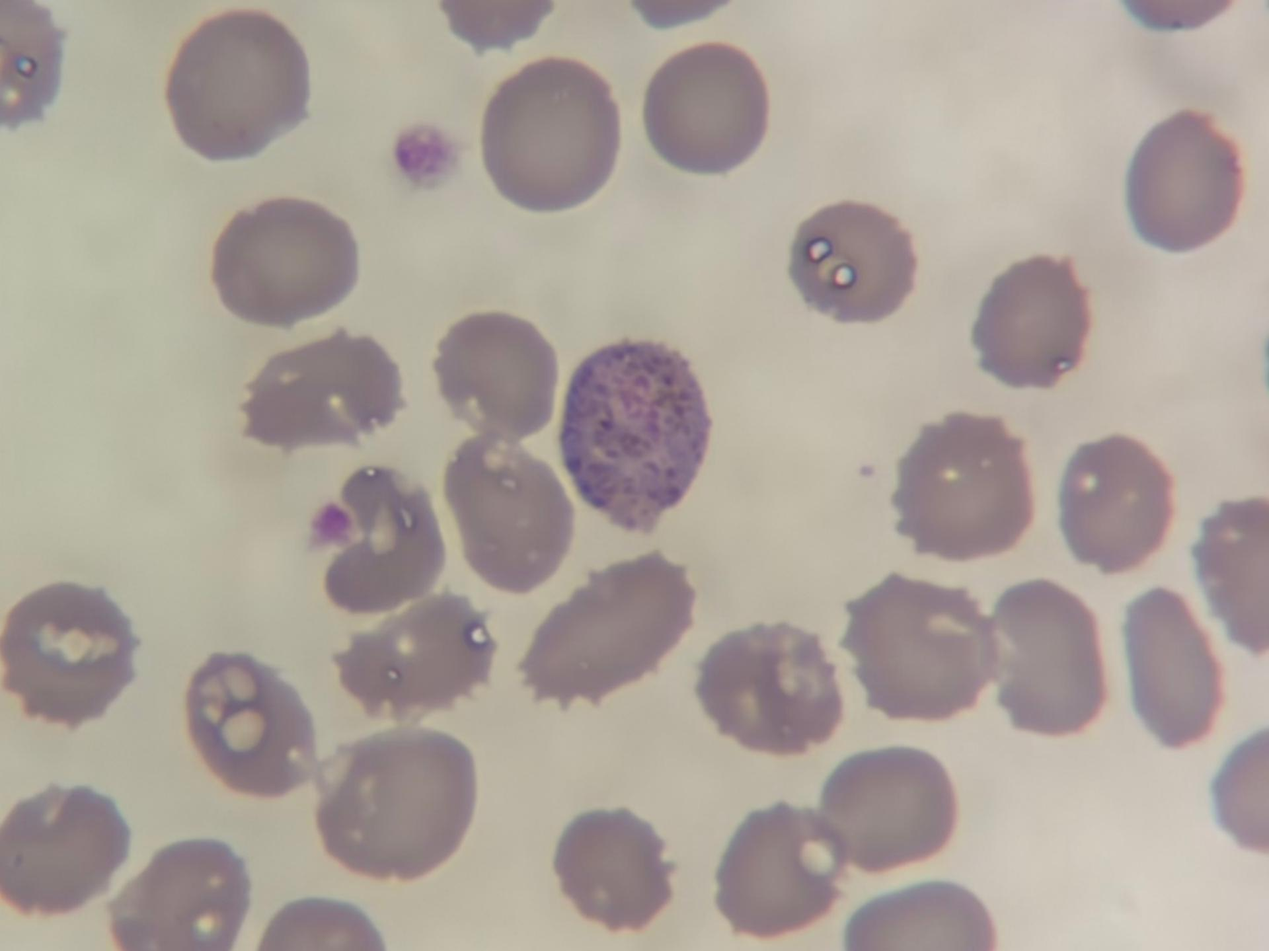Infected: (555, 340, 711, 540)
Uninfected: (524, 551, 689, 711), (846, 567, 994, 725), (317, 741, 479, 878), (478, 60, 617, 214), (209, 190, 360, 331), (890, 415, 1033, 562), (167, 14, 308, 161), (330, 602, 492, 728), (443, 433, 571, 592), (0, 580, 140, 725), (987, 573, 1110, 731), (326, 461, 452, 615), (187, 653, 323, 793), (1124, 578, 1226, 758), (247, 336, 404, 452), (0, 781, 134, 915), (703, 622, 840, 753), (1126, 109, 1243, 260), (714, 805, 845, 938), (641, 40, 767, 176), (826, 745, 962, 869), (110, 829, 247, 951), (791, 190, 919, 318), (976, 247, 1085, 395), (1064, 435, 1178, 574), (555, 807, 684, 929), (436, 305, 554, 434)
